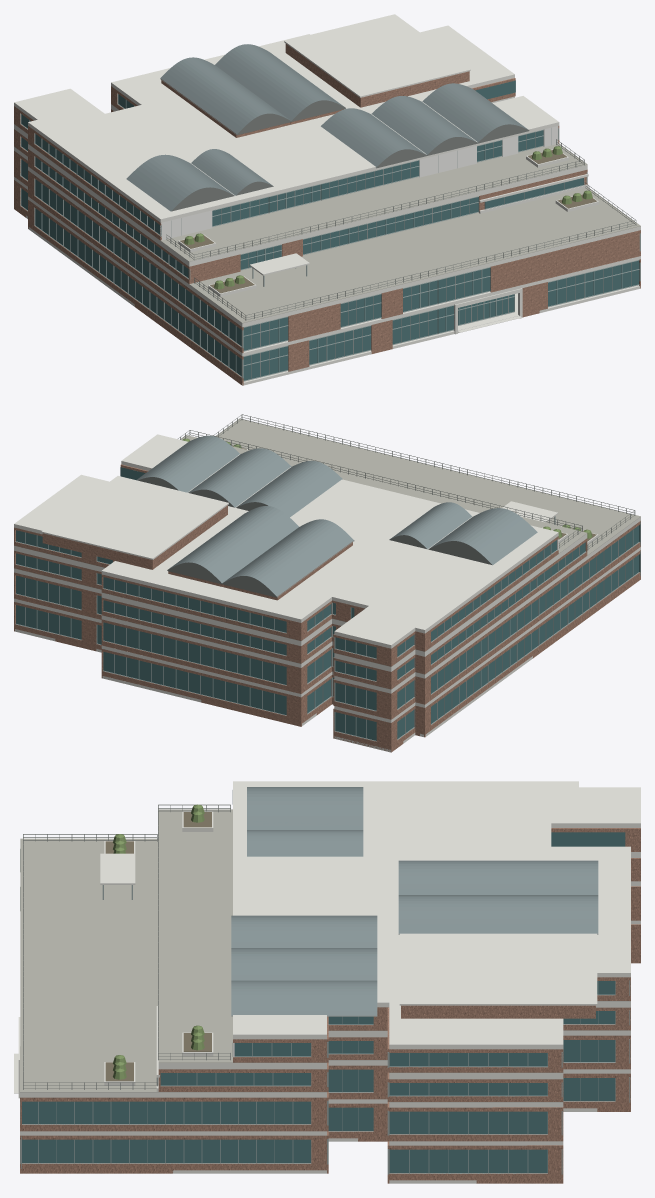
3 views of the same model, one above another, from view 1: azimuth 30°, elevation 25°; view 2: azimuth 150°, elevation 25°; view 3: azimuth 270°, elevation 25° (orthographic). The views are drawn at different scales.
Visible parts, largest first — view 1: convergence-hall__slab, convergence-hall__glass, convergence-hall__waveRoofs, convergence-hall__terracePaving, convergence-hall__brick, convergence-hall__upperTerracePaving, convergence-hall__frame, convergence-hall__rearRightFlatBlockCap, convergence-hall__rail, convergence-hall__soffit, convergence-hall__whitePanel, convergence-hall__reveal (+8 smaller); view 2: convergence-hall__slab, convergence-hall__glass, convergence-hall__brick, convergence-hall__waveRoofs, convergence-hall__terracePaving, convergence-hall__rearRightFlatBlockCap, convergence-hall__frame, convergence-hall__rail, convergence-hall__soffit, convergence-hall__upperTerracePaving, convergence-hall__rearRightFlatBlock, convergence-hall__base (+3 smaller); view 3: convergence-hall__slab, convergence-hall__waveRoofs, convergence-hall__glass, convergence-hall__terracePaving, convergence-hall__brick, convergence-hall__upperTerracePaving, convergence-hall__rearRightFlatBlockCap, convergence-hall__frame, convergence-hall__rearRightFlatBlock, convergence-hall__rail, convergence-hall__soil, convergence-hall__base (+4 smaller).
Boxes of the visible parts, bbox=[...] form: convergence-hall__slab: bbox=[14, 25, 640, 356]; convergence-hall__glass: bbox=[21, 80, 639, 380]; convergence-hall__waveRoofs: bbox=[126, 44, 528, 211]; convergence-hall__terracePaving: bbox=[14, 146, 640, 323]; convergence-hall__brick: bbox=[14, 78, 640, 385]; convergence-hall__upperTerracePaving: bbox=[14, 104, 587, 261]; convergence-hall__frame: bbox=[20, 80, 640, 381]; convergence-hall__rearRightFlatBlockCap: bbox=[284, 14, 470, 97]; convergence-hall__rail: bbox=[166, 139, 636, 320]; convergence-hall__soffit: bbox=[160, 78, 529, 211]; convergence-hall__whitePanel: bbox=[160, 126, 558, 240]; convergence-hall__reveal: bbox=[20, 94, 640, 381]; convergence-hall__slab: bbox=[14, 434, 640, 722]; convergence-hall__glass: bbox=[16, 467, 640, 740]; convergence-hall__brick: bbox=[14, 464, 640, 752]; convergence-hall__waveRoofs: bbox=[136, 435, 537, 596]; convergence-hall__terracePaving: bbox=[14, 418, 640, 689]; convergence-hall__rearRightFlatBlockCap: bbox=[41, 476, 228, 559]; convergence-hall__frame: bbox=[15, 467, 640, 741]; convergence-hall__rail: bbox=[178, 414, 635, 550]; convergence-hall__soffit: bbox=[138, 477, 491, 597]; convergence-hall__upperTerracePaving: bbox=[14, 435, 586, 666]; convergence-hall__rearRightFlatBlock: bbox=[42, 505, 227, 569]; convergence-hall__base: bbox=[15, 629, 532, 752]; convergence-hall__slab: bbox=[18, 781, 640, 1145]; convergence-hall__waveRoofs: bbox=[231, 787, 598, 1015]; convergence-hall__glass: bbox=[22, 832, 625, 1172]; convergence-hall__terracePaving: bbox=[20, 838, 630, 1102]; convergence-hall__brick: bbox=[20, 828, 640, 1183]; convergence-hall__upperTerracePaving: bbox=[158, 809, 630, 1072]; convergence-hall__rearRightFlatBlockCap: bbox=[399, 933, 597, 1005]; convergence-hall__frame: bbox=[20, 790, 630, 1174]; convergence-hall__rearRightFlatBlock: bbox=[401, 1005, 595, 1018]; convergence-hall__rail: bbox=[23, 804, 230, 1089]; convergence-hall__soil: bbox=[105, 812, 211, 1081]; convergence-hall__base: bbox=[172, 1108, 597, 1183].
Size of the model in its own units: 79.92 by 22.95 by 80.31.
Materials: 12 (1 with a texture image).
